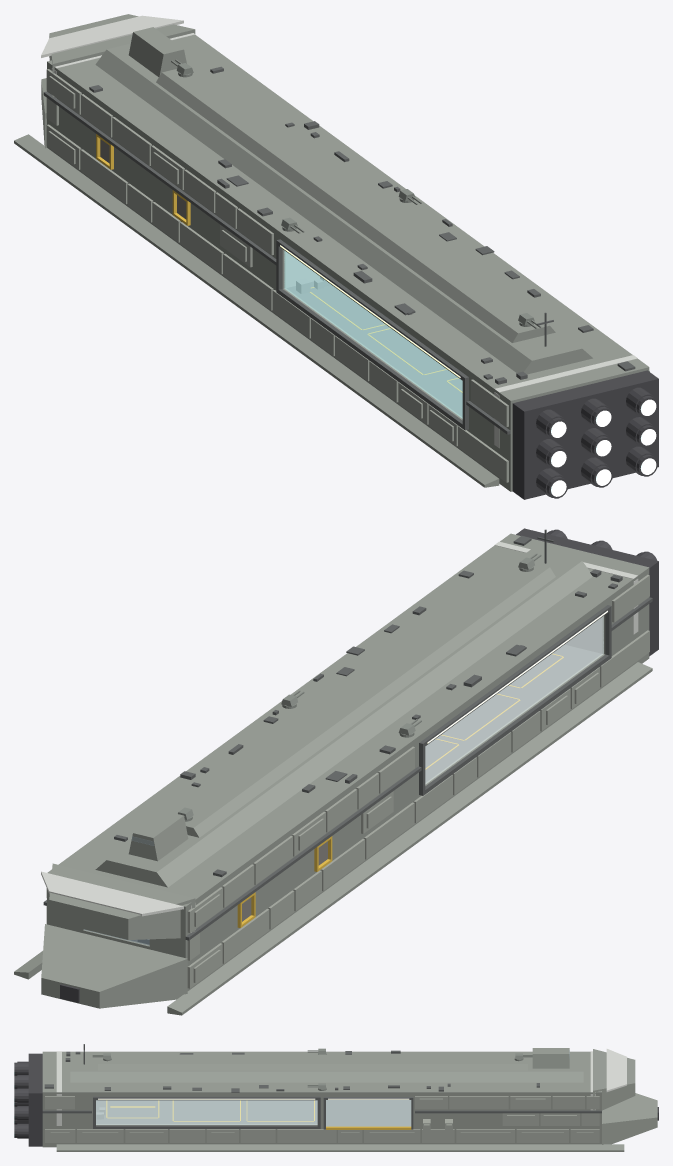
File: ship_MEDIUM.glb
3 views of the same model, one above another, from view 1: azimuth 30°, elevation 25°; view 2: azimuth 150°, elevation 25°; view 3: azimuth 270°, elevation 25° (orthographic). The views are drawn at different scales.
Parts seen in each view (by area): view 1: MEDIUM_Hull-col, MEDIUM_Armor, MEDIUM_Engines, MEDIUM_HangarShield_Port, MEDIUM_Trim, MEDIUM_Decks-col, MEDIUM_Accent, MEDIUM_Details, MEDIUM_EngineGlow, MEDIUM_Hazard; view 2: MEDIUM_Hull-col, MEDIUM_Armor, MEDIUM_HangarShield_Port, MEDIUM_Decks-col, MEDIUM_Trim, MEDIUM_Accent, MEDIUM_Engines, MEDIUM_Details, MEDIUM_Hazard, MEDIUM_Interior-col; view 3: MEDIUM_Hull-col, MEDIUM_Armor, MEDIUM_HangarShield_Starboard, MEDIUM_Decks-col, MEDIUM_Trim, MEDIUM_Engines, MEDIUM_CargoBayShield, MEDIUM_CargoBayDoor-col, MEDIUM_Accent, MEDIUM_Hazard, MEDIUM_Details, MEDIUM_Lights.
Part boxes in pixels (x1,y1,x2,y2): MEDIUM_Hull-col: (14,14,649,491); MEDIUM_Armor: (46,69,649,482); MEDIUM_Engines: (512,370,658,499); MEDIUM_HangarShield_Port: (284,251,462,418); MEDIUM_Trim: (43,91,510,434); MEDIUM_Decks-col: (286,281,462,416); MEDIUM_Accent: (41,15,637,447); MEDIUM_Details: (89,66,635,384); MEDIUM_EngineGlow: (551,399,656,496); MEDIUM_Hazard: (96,134,462,392); MEDIUM_Hull-col: (14,533,652,1015); MEDIUM_Armor: (46,574,649,988); MEDIUM_HangarShield_Port: (425,616,603,784); MEDIUM_Decks-col: (135,645,601,941); MEDIUM_Trim: (43,597,652,940); MEDIUM_Accent: (41,541,638,932); MEDIUM_Engines: (60,528,658,1002); MEDIUM_Details: (114,529,622,877); MEDIUM_Hazard: (237,653,563,927); MEDIUM_Interior-col: (565,617,601,653); MEDIUM_Hull-col: (42,1048,657,1151); MEDIUM_Armor: (45,1096,599,1142); MEDIUM_HangarShield_Starboard: (96,1100,317,1124); MEDIUM_Decks-col: (96,1100,317,1124); MEDIUM_Trim: (42,1096,601,1129); MEDIUM_Engines: (14,1053,658,1146); MEDIUM_CargoBayShield: (326,1100,411,1126); MEDIUM_CargoBayDoor-col: (326,1100,411,1125); MEDIUM_Accent: (56,1049,626,1125); MEDIUM_Hazard: (106,1100,411,1129); MEDIUM_Details: (44,1044,539,1092); MEDIUM_Lights: (98,1098,409,1099).
Size of the model in its own units: 25.8 by 21.4 by 140.
